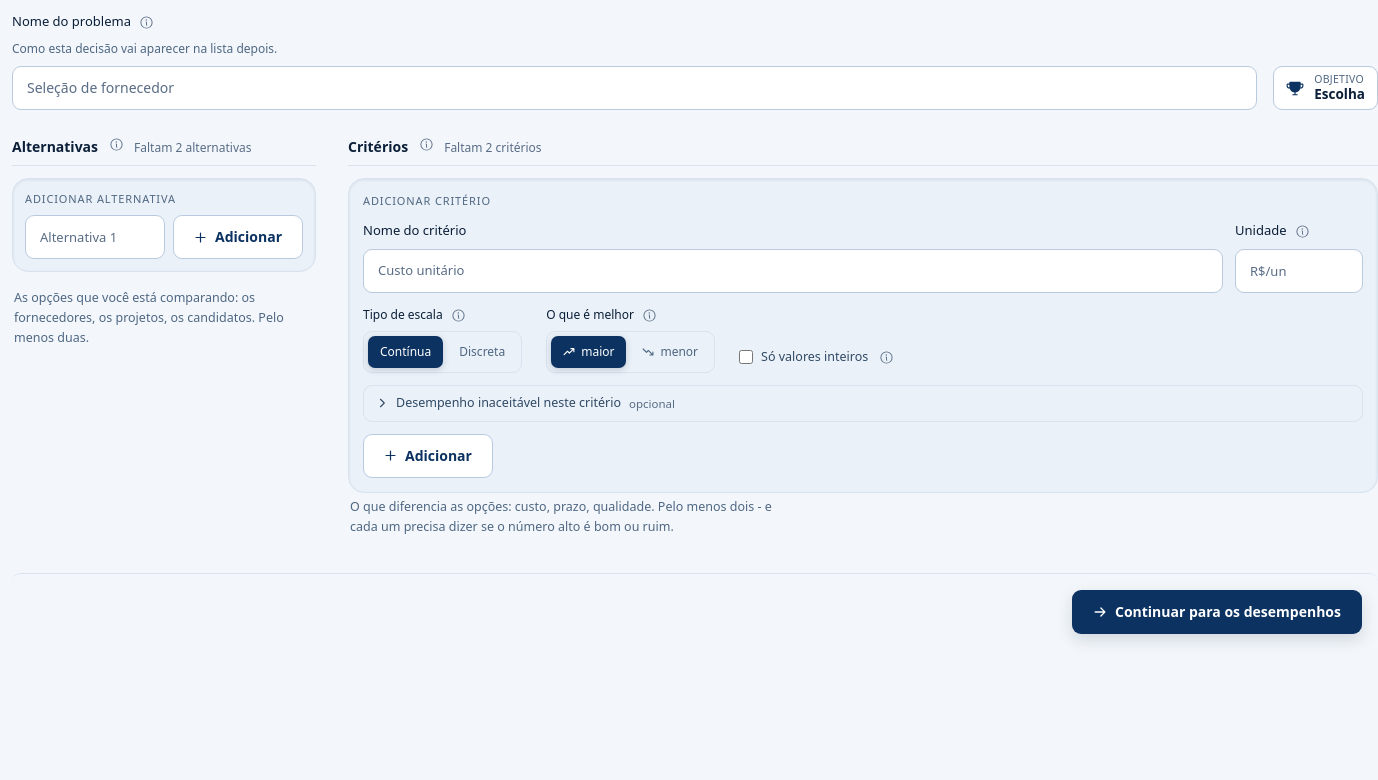
it: o campo de veto só existe onde o método o define › começa fechado, e explica que não elimina a alternativa
The image size is (1378, 780).
Click the button "Desempenho inaceitável neste critério opcional" at (509, 402), box 364,386 -> 1362,421
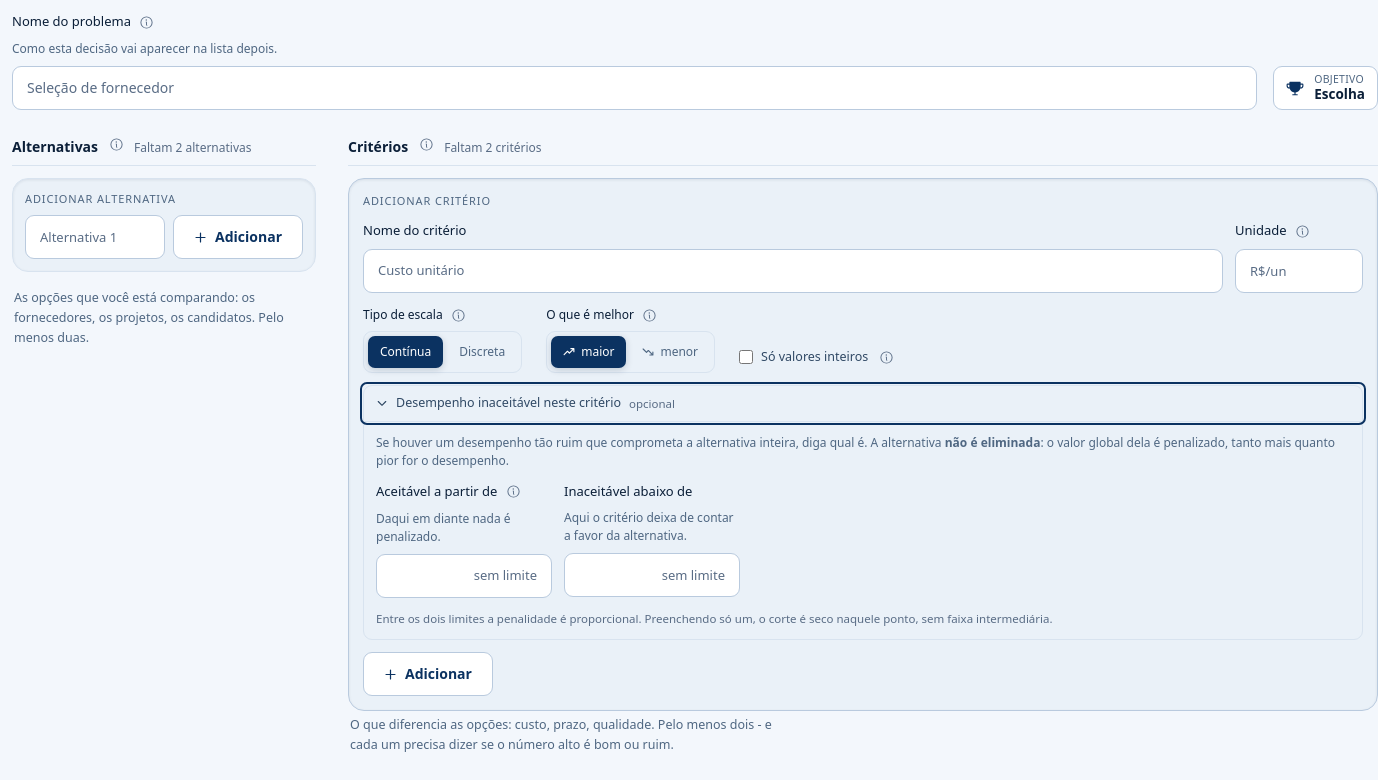
Check: the button "Desempenho inaceitável neste critério opcional" is expanded, box 364,386 -> 1362,421
Check: the text "não é eliminada" is shown, box 945,434 -> 1040,451
